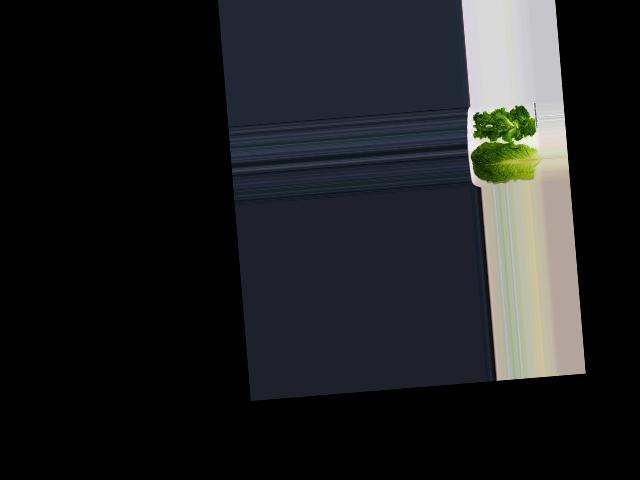lettuce: (470, 100, 534, 142)
